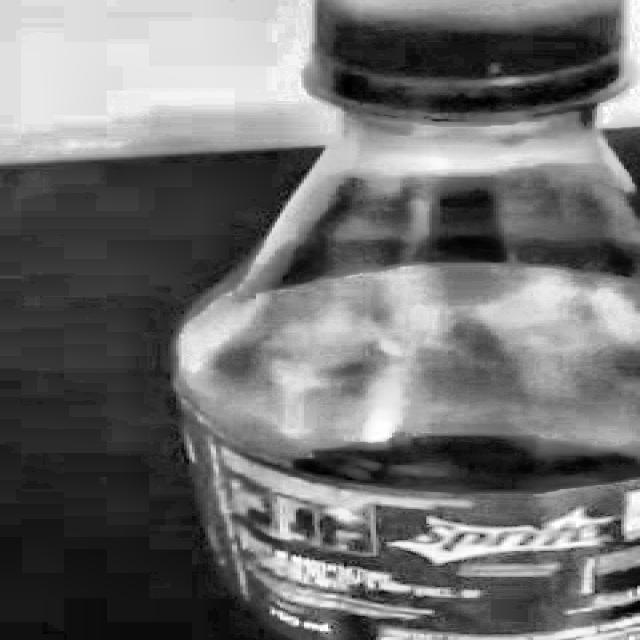bottle: (168, 0, 640, 640)
